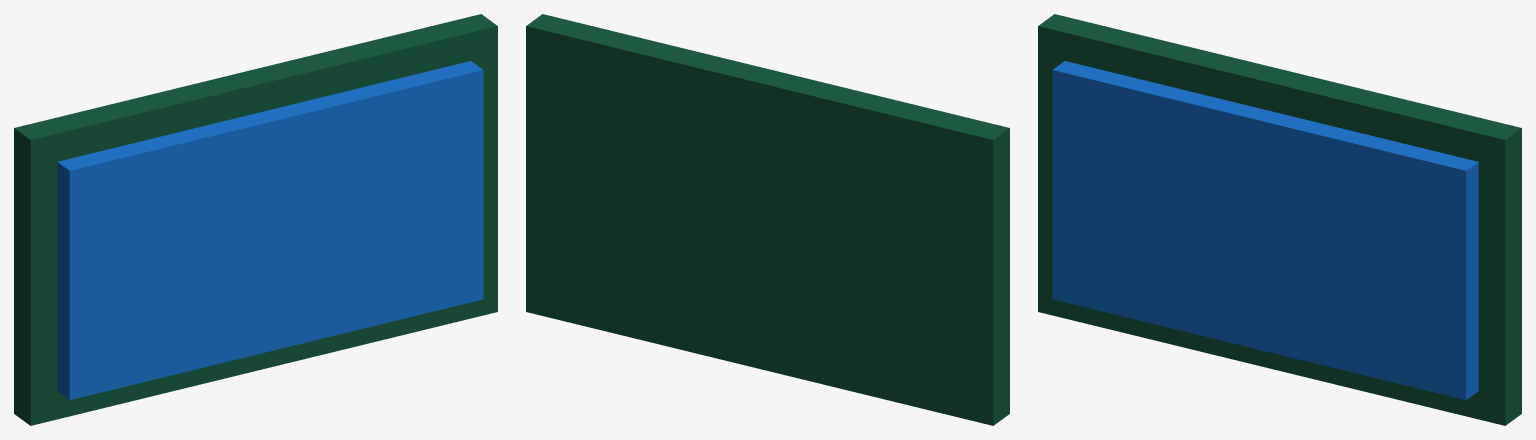
Rendered from T_EXIT.fbx.
The picture shows the model from 3 angles, left to right: view 1: azimuth 30°, elevation 25°; view 2: azimuth 150°, elevation 25°; view 3: azimuth 330°, elevation 25°; orthographic projection.
Parts seen in each view (by area): view 1: EXIT; view 2: EXIT; view 3: EXIT.
Boxes of the visible parts, left/top/right/bottom form: EXIT: left=14, top=14, right=497, bottom=425; EXIT: left=526, top=14, right=1009, bottom=425; EXIT: left=1038, top=14, right=1521, bottom=425.
Bounding box in the file's own units: 36.66 × 21.43 × 3.93.
